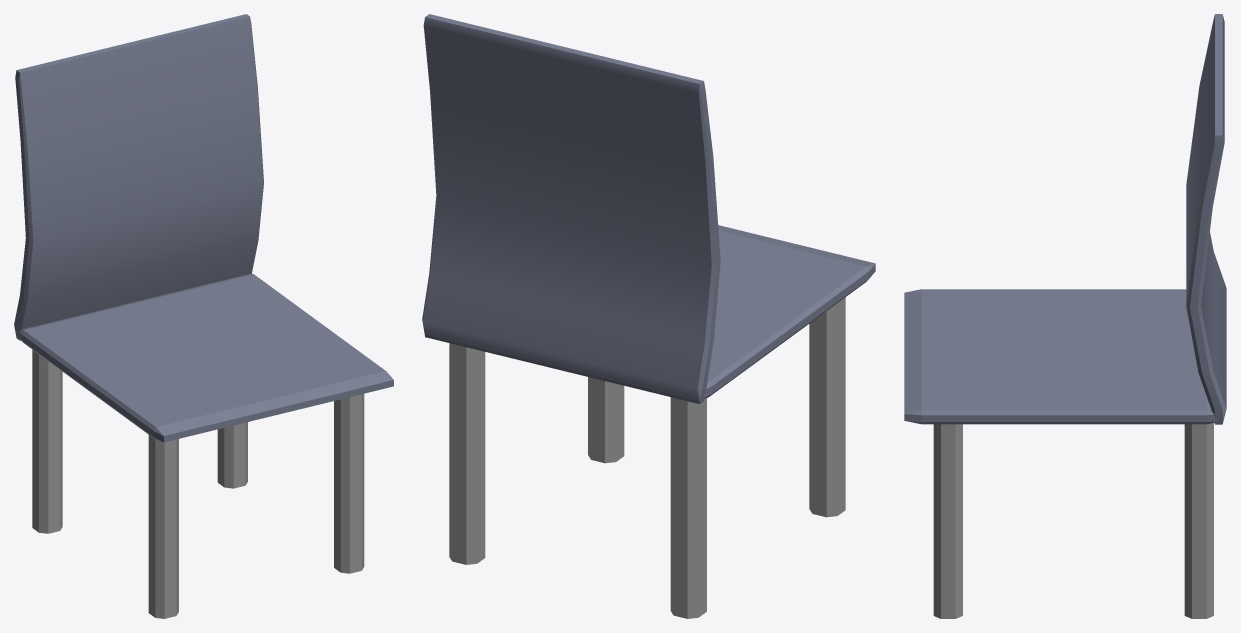
File: Chair.fbx
3 views of the same model, side by side, from view 1: azimuth 30°, elevation 25°; view 2: azimuth 150°, elevation 25°; view 3: azimuth 270°, elevation 25° (orthographic). The views are drawn at different scales.
Visible parts, largest first — view 1: polySurface26; view 2: polySurface26; view 3: polySurface26.
Part boxes in pixels (left/top/right/bottom): polySurface26: left=14, top=14, right=393, bottom=618; polySurface26: left=422, top=14, right=875, bottom=618; polySurface26: left=904, top=14, right=1226, bottom=618.
Size of the model in its own units: 0.4963 by 0.9175 by 0.5456.
